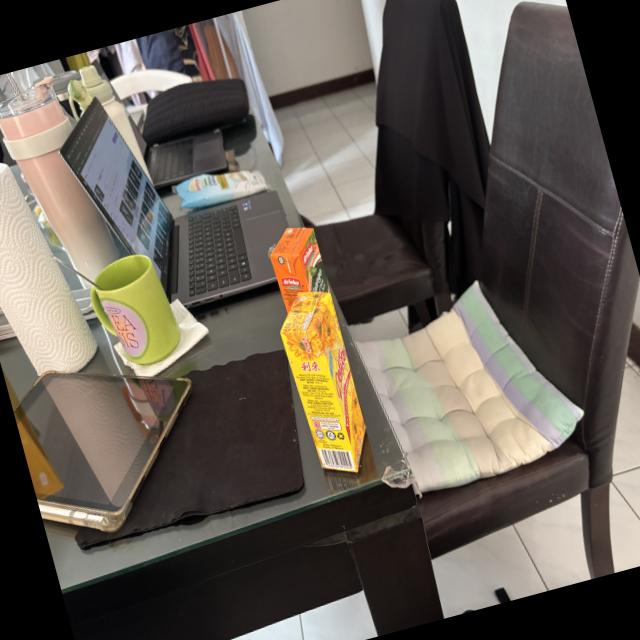drink_carton: (266, 278, 386, 490), (254, 208, 344, 322)
